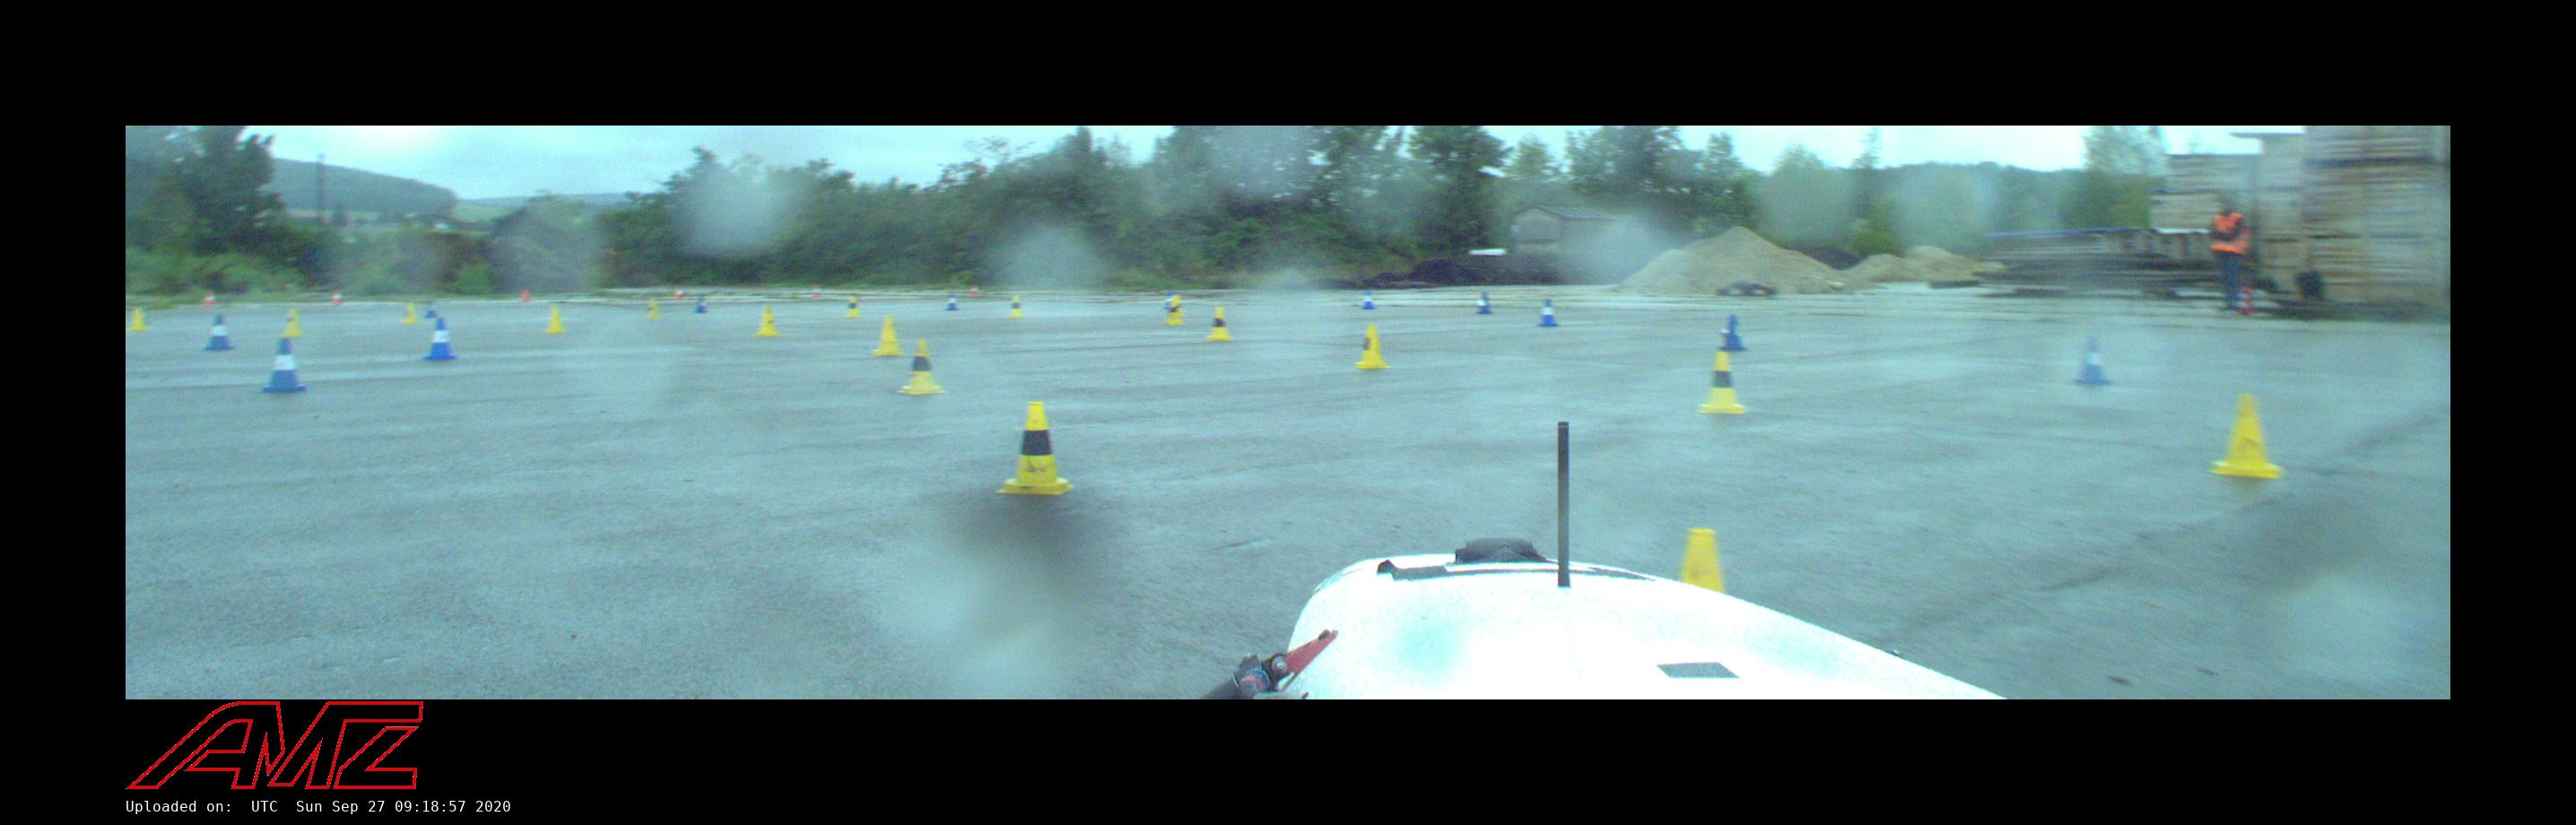blue_cone: (258, 337, 310, 394), (2073, 339, 2113, 386), (424, 319, 457, 360), (204, 314, 235, 350), (1717, 316, 1748, 352), (1538, 299, 1559, 327), (1360, 289, 1377, 311), (1477, 293, 1493, 314), (425, 299, 437, 319), (695, 296, 708, 312), (945, 294, 958, 311), (1163, 293, 1173, 309)
orange_cone: (204, 293, 217, 306), (330, 291, 343, 304), (519, 288, 531, 301), (812, 284, 821, 297), (675, 288, 683, 299), (971, 286, 979, 296)
yellow_cone: (997, 401, 1074, 495), (2210, 394, 2282, 478), (1697, 353, 1746, 414), (899, 340, 946, 394), (1354, 324, 1390, 368), (872, 316, 905, 355), (1206, 307, 1232, 340), (281, 309, 306, 337), (757, 307, 780, 337), (545, 307, 567, 332), (1165, 301, 1184, 325), (130, 309, 148, 330), (402, 302, 421, 322), (844, 296, 859, 317), (1009, 297, 1022, 317), (647, 299, 660, 319)
